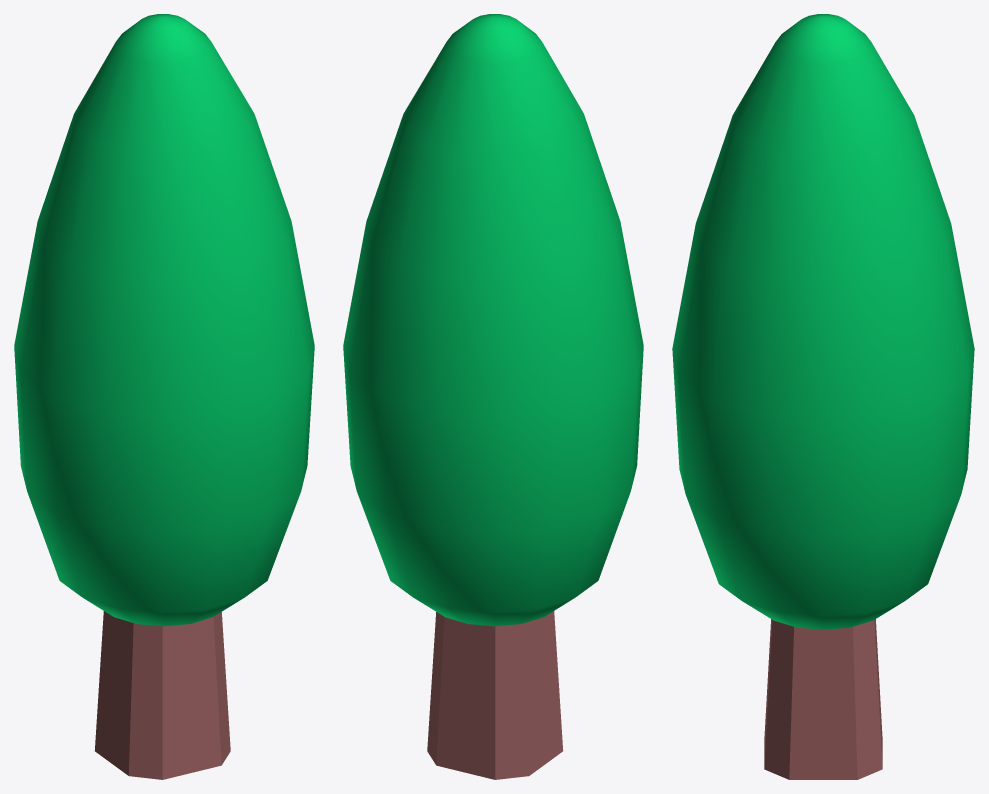
File: Tree 2.fbx
The picture shows the model from 3 angles, left to right: view 1: azimuth 30°, elevation 25°; view 2: azimuth 150°, elevation 25°; view 3: azimuth 270°, elevation 25°; orthographic projection.
Visible parts, largest first — view 1: LOD2_Slim_Bush1; view 2: LOD2_Slim_Bush1; view 3: LOD2_Slim_Bush1.
Boxes of the visible parts, x1,y1,x2,y2 form: LOD2_Slim_Bush1: (14, 14, 314, 779); LOD2_Slim_Bush1: (343, 14, 643, 779); LOD2_Slim_Bush1: (672, 14, 974, 779).
Bounding box in the file's own units: 3.06 × 8.28 × 3.08.
